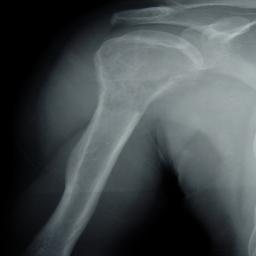cancer: (67, 31, 203, 223)
